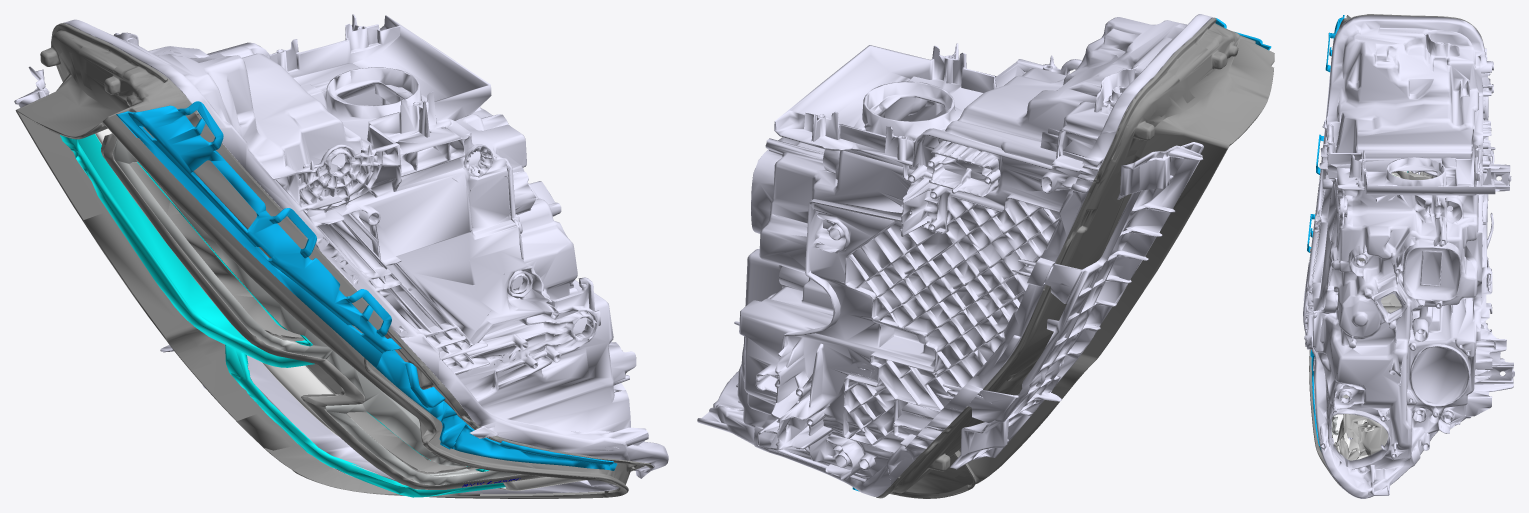
Rendered from series-3-simple.glb.
3 views of the same model, side by side, from view 1: azimuth 30°, elevation 25°; view 2: azimuth 150°, elevation 25°; view 3: azimuth 270°, elevation 25° (orthographic). The views are drawn at different scales.
Parts seen in each view (by area): view 1: headlight-simpler, outer-liner, hanger, griddy-thing, top-light-2, top-light, griddy-thing-case; view 2: headlight-simpler, outer-liner; view 3: headlight-simpler, inner-body, hanger, outer-liner, griddy-thing-case.
Boxes of the visible parts, x1,y1,x2,y2 form: headlight-simpler: (14, 14, 668, 493); outer-liner: (15, 23, 653, 498); hanger: (116, 101, 617, 470); griddy-thing: (60, 134, 505, 497); top-light-2: (101, 133, 545, 489); top-light: (113, 139, 519, 484); griddy-thing-case: (95, 128, 586, 490); headlight-simpler: (697, 14, 1213, 496); outer-liner: (876, 17, 1274, 498); headlight-simpler: (1303, 15, 1514, 498); inner-body: (1333, 171, 1434, 460); hanger: (1307, 15, 1344, 449); outer-liner: (1309, 14, 1485, 488); griddy-thing-case: (1337, 171, 1417, 459).
Size of the model in its own units: 19.64 by 17.26 by 9.78.
